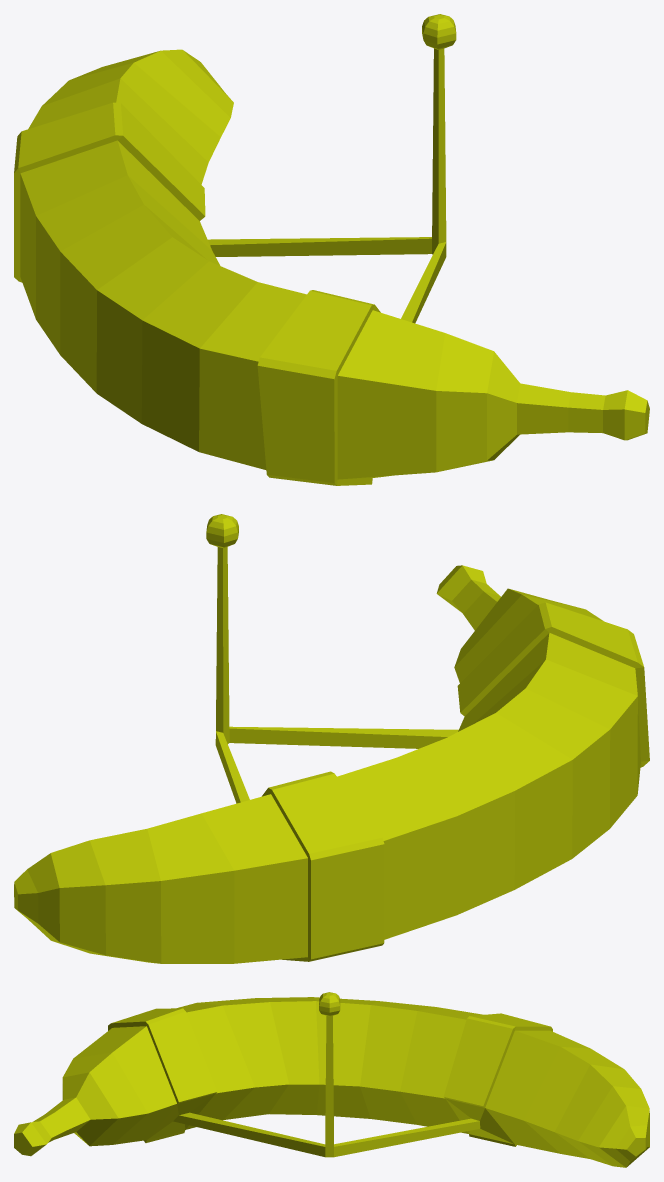
The model's file is telebanana.obj.
3 views of the same model, one above another, from view 1: azimuth 30°, elevation 25°; view 2: azimuth 150°, elevation 25°; view 3: azimuth 270°, elevation 25° (orthographic). The views are drawn at different scales.
Visible parts, largest first — view 1: Cylinder; view 2: Cylinder; view 3: Cylinder.
Boxes of the visible parts, <box> form: Cylinder: <box>14,14,649,485</box>; Cylinder: <box>14,514,649,963</box>; Cylinder: <box>14,992,649,1167</box>.
Bounding box in the file's own units: 5.25 × 4.35 × 11.5.
